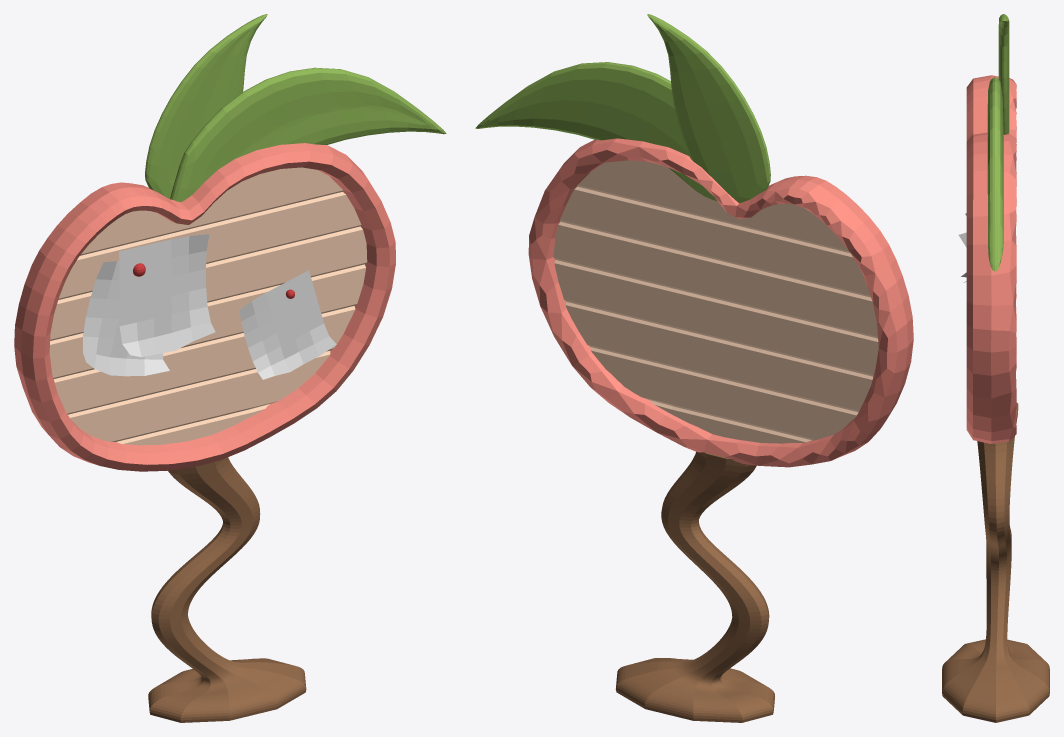
Rendered from PeachSign.fbx.
3 renders of one model, left to right at view 1: azimuth 30°, elevation 25°; view 2: azimuth 150°, elevation 25°; view 3: azimuth 270°, elevation 25°, orthographic. The views are drawn at different scales.
Visible parts, largest first — view 1: peach-inside, peach-outside, NurbsPath, Plane.005, Plane.007, Plane.004, Plane.008, Plane.006; view 2: Plane.003, peach-outside, NurbsPath, Plane.005, Plane.004; view 3: peach-outside, NurbsPath, Plane.005, Plane.004.
Part boxes in pixels (x1=…): peach-inside: x1=49, y1=167, x2=367, y2=445; peach-outside: x1=14, y1=143, x2=395, y2=471; NurbsPath: x1=148, y1=457, x2=306, y2=722; Plane.005: x1=170, y1=67, x2=446, y2=202; Plane.007: x1=119, y1=234, x2=215, y2=357; Plane.004: x1=145, y1=14, x2=267, y2=198; Plane.008: x1=239, y1=270, x2=336, y2=379; Plane.006: x1=83, y1=261, x2=169, y2=376; Plane.003: x1=553, y1=160, x2=878, y2=443; peach-outside: x1=528, y1=138, x2=913, y2=467; NurbsPath: x1=615, y1=452, x2=774, y2=722; Plane.005: x1=475, y1=62, x2=717, y2=201; Plane.004: x1=647, y1=14, x2=770, y2=203; peach-outside: x1=966, y1=75, x2=1016, y2=443; NurbsPath: x1=942, y1=402, x2=1049, y2=722; Plane.005: x1=987, y1=77, x2=1003, y2=271; Plane.004: x1=998, y1=14, x2=1009, y2=134.
Bounding box in the file's own units: 32.17 × 48.07 × 6.85.
